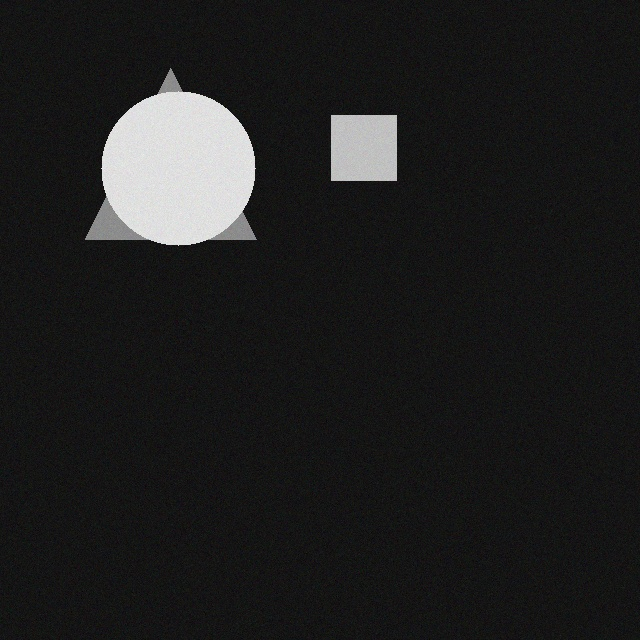circle: (94, 105, 248, 259)
square: (324, 129, 389, 194)
triangle: (78, 82, 249, 253)
